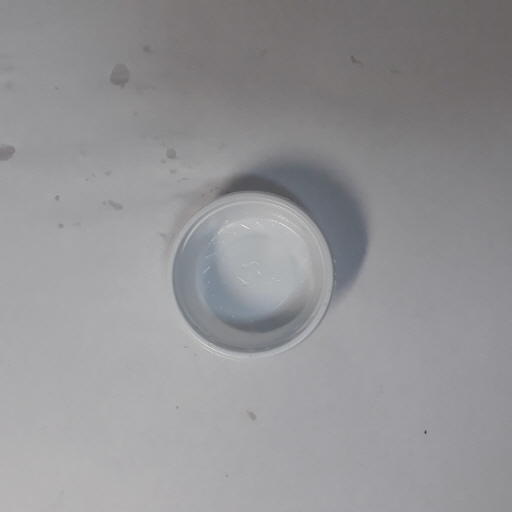Plastic_5: (164, 190, 337, 362)
